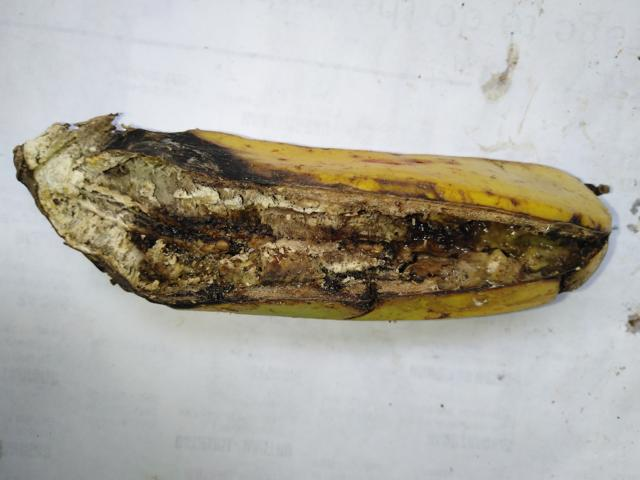rotten: (19, 99, 602, 360)
